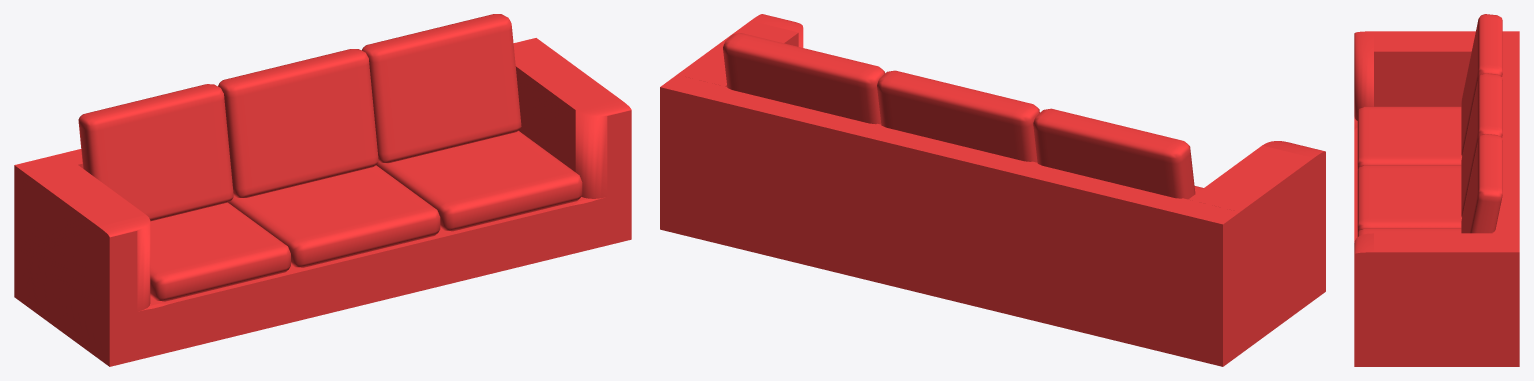
File: Sofa.FBX
The picture shows the model from 3 angles, left to right: view 1: azimuth 30°, elevation 25°; view 2: azimuth 150°, elevation 25°; view 3: azimuth 270°, elevation 25°; orthographic projection. The views are drawn at different scales.
Visible parts, largest first — view 1: Sofa; view 2: Sofa; view 3: Sofa.
Part boxes in pixels (<box>): Sofa: <box>14,14,631,366</box>; Sofa: <box>660,14,1325,366</box>; Sofa: <box>1354,14,1519,366</box>.
Bounding box in the file's own units: 367 × 125 × 116.
